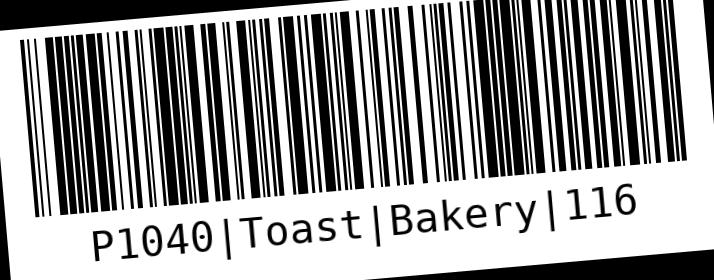milk: (11, 1, 713, 275)
